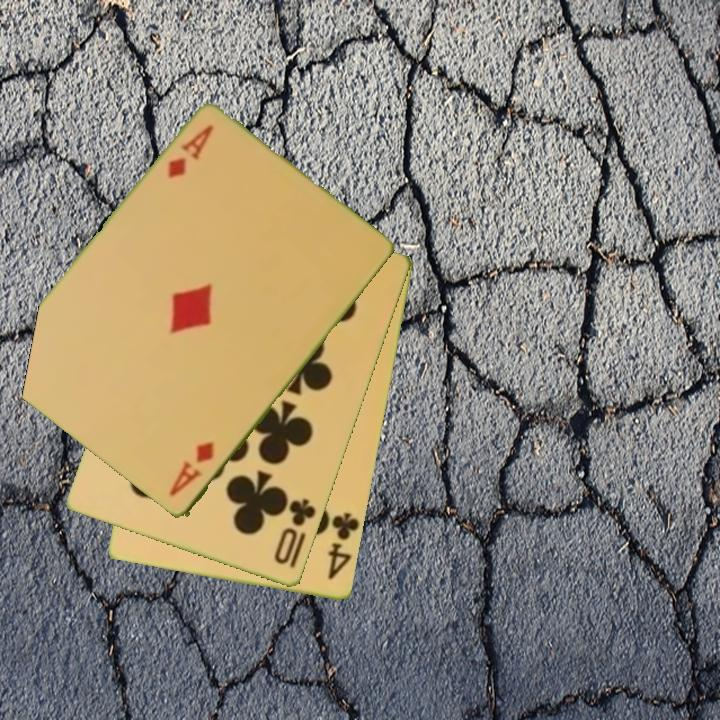10c: (271, 495, 319, 568)
4c: (324, 509, 362, 583)
Ad: (165, 438, 217, 500), (164, 122, 217, 182)
